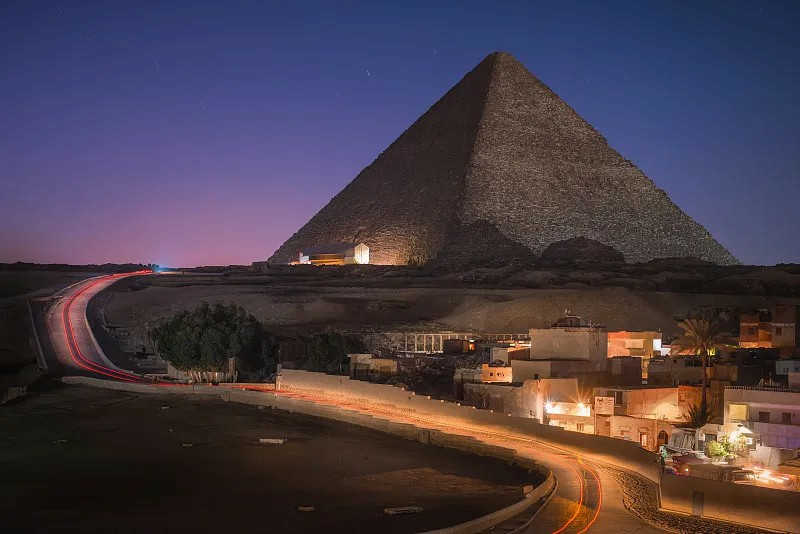Pyramid: (265, 52, 745, 267)
